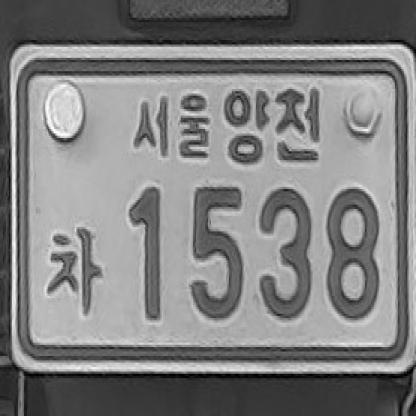bnum: (6, 35, 414, 380)
